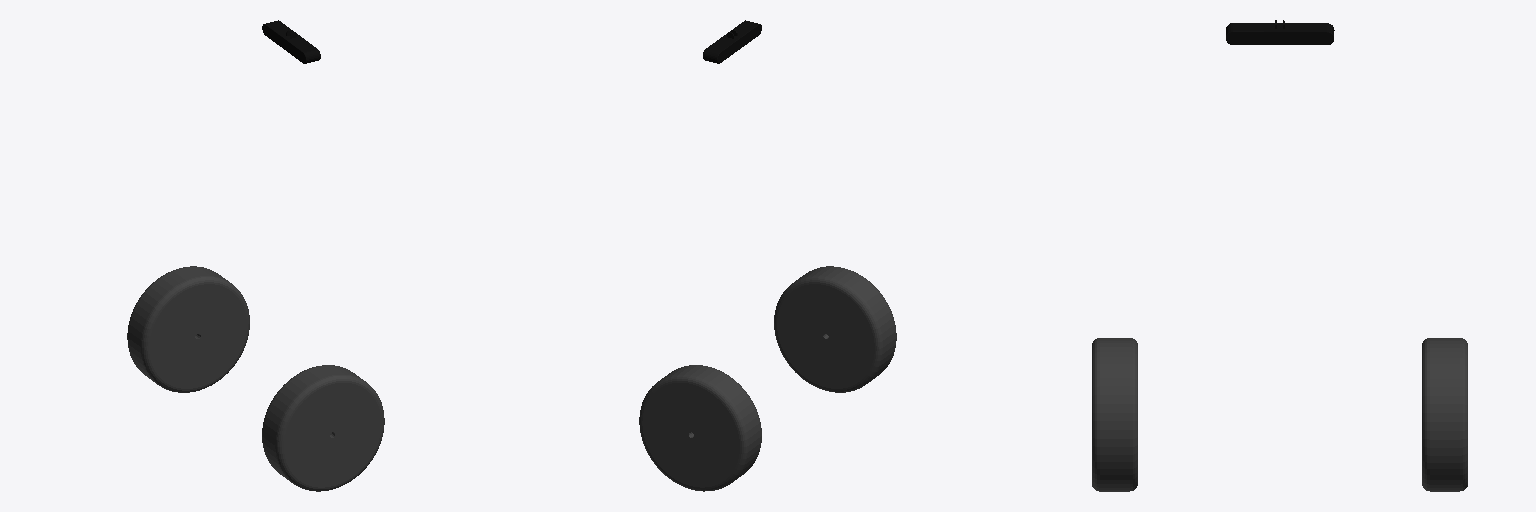
robot.urdf — rbe_500_model:
<robot
  name="rbe_500_model">
  <link
    name="base_link">
    <inertial>
      <origin
        xyz="0 0 0"
        rpy="0 0 0" />
      <mass
        value="0.475534497792671" />
      <inertia
        ixx="0.00292364483627102"
        ixy="9.22234923881454E-20"
        ixz="1.33222993581309E-19"
        iyy="0.00490966460932714"
        iyz="-2.11085723127762E-18"
        izz="0.00292364483627102" />
    </inertial>
    <visual>
      <origin
        xyz="0 0 0"
        rpy="0 0 0" />
      <geometry>
        <mesh
          filename="package://rbe_500_model/meshes/base_link.STL" />
      </geometry>
      <material
        name="">
        <color
          rgba="0.294117647058824 0.294117647058824 0.294117647058824 1" />
      </material>
    </visual>
    <collision>
      <origin
        xyz="0 0 0"
        rpy="0 0 0" />
      <geometry>
        <mesh
          filename="package://rbe_500_model/meshes/base_link.STL" />
      </geometry>
    </collision>
  </link>
  <link
    name="left wheel">
    <inertial>
      <origin
        xyz="0.0381 6.93889390390723E-18 -5.55111512312578E-17"
        rpy="0 0 0" />
      <mass
        value="0.47553449779267" />
      <inertia
        ixx="0.00490966460932713"
        ixy="-3.54087862241003E-19"
        ixz="-1.51683481439318E-19"
        iyy="0.00292364483627101"
        iyz="2.366776865394E-34"
        izz="0.00292364483627101" />
    </inertial>
    <visual>
      <origin
        xyz="0 0 0"
        rpy="0 0 0" />
      <geometry>
        <mesh
          filename="package://rbe_500_model/meshes/left wheel.STL" />
      </geometry>
      <material
        name="">
        <color
          rgba="0.294117647058824 0.294117647058824 0.294117647058824 1" />
      </material>
    </visual>
    <collision>
      <origin
        xyz="0 0 0"
        rpy="0 0 0" />
      <geometry>
        <mesh
          filename="package://rbe_500_model/meshes/left wheel.STL" />
      </geometry>
    </collision>
  </link>
  <joint
    name="LWG"
    type="fixed">
    <origin
      xyz="-0.131259548029399 -0.241937956784144 -0.00493639826942228"
      rpy="-1.5707963267949 -6.12303176911189E-17 -1.5707963267949" />
    <parent
      link="base_link" />
    <child
      link="left wheel" />
    <axis
      xyz="0 0 0" />
  </joint>
  <link
    name="Right Wheel">
    <inertial>
      <origin
        xyz="-0.508 -5.03937169771262E-16 5.55111512312578E-17"
        rpy="0 0 0" />
      <mass
        value="0.47553449779267" />
      <inertia
        ixx="0.00490966460932714"
        ixy="-2.23246185292269E-18"
        ixz="-9.22234923881454E-20"
        iyy="0.00292364483627102"
        iyz="-1.33222993581309E-19"
        izz="0.00292364483627102" />
    </inertial>
    <visual>
      <origin
        xyz="0 0 0"
        rpy="0 0 0" />
      <geometry>
        <mesh
          filename="package://rbe_500_model/meshes/Right Wheel.STL" />
      </geometry>
      <material
        name="">
        <color
          rgba="0.294117647058824 0.294117647058824 0.294117647058824 1" />
      </material>
    </visual>
    <collision>
      <origin
        xyz="0 0 0"
        rpy="0 0 0" />
      <geometry>
        <mesh
          filename="package://rbe_500_model/meshes/Right Wheel.STL" />
      </geometry>
    </collision>
  </link>
  <joint
    name="Right Wheel"
    type="fixed">
    <origin
      xyz="-0.131259548029399 -0.241937956784144 -0.00493639826942228"
      rpy="-1.5707963267949 -6.12303176911189E-17 -1.5707963267949" />
    <parent
      link="base_link" />
    <child
      link="Right Wheel" />
    <axis
      xyz="0 0 0" />
  </joint>
  <link
    name="Primesense_C">
    <inertial>
      <origin
        xyz="-0.0480847778056963 -0.00688257876730907 0.72885206673097"
        rpy="0 0 0" />
      <mass
        value="0.153732149014193" />
      <inertia
        ixx="0.000397122289038545"
        ixy="1.93009391494109E-06"
        ixz="3.29971582318569E-21"
        iyy="2.36445937636936E-05"
        iyz="2.27766027835362E-19"
        izz="0.000404632790594423" />
    </inertial>
    <visual>
      <origin
        xyz="0 0 0"
        rpy="0 0 0" />
      <geometry>
        <mesh
          filename="package://rbe_500_model/meshes/Primesense_C.STL" />
      </geometry>
      <material
        name="">
        <color
          rgba="0.0980392156862745 0.0980392156862745 0.0980392156862745 1" />
      </material>
    </visual>
    <collision>
      <origin
        xyz="0 0 0"
        rpy="0 0 0" />
      <geometry>
        <mesh
          filename="package://rbe_500_model/meshes/Primesense_C.STL" />
      </geometry>
    </collision>
  </link>
  <joint
    name="primesense_depth_frame_c"
    type="fixed">
    <origin
      xyz="0 0 0"
      rpy="0 0 0" />
    <parent
      link="base_link" />
    <child
      link="Primesense_C" />
    <axis
      xyz="0 0 0" />
  </joint>
</robot>

--- Render facts (derived) ---
3 views of the same robot in one strip: view 1: azimuth 30°, elevation 25°; view 2: azimuth 150°, elevation 25°; view 3: azimuth 270°, elevation 25° (orthographic).
Model rbe_500_model with 4 links and 3 joints (3 fixed), rooted at base_link, posed every joint at zero.
Visible links, largest first — view 1: left wheel, base_link, Primesense_C, Right Wheel; view 2: left wheel, base_link, Right Wheel, Primesense_C; view 3: left wheel, base_link, Primesense_C, Right Wheel.
Boxes of the visible links, x1,y1,x2,y2 form: left wheel: [262, 365, 384, 491]; base_link: [127, 266, 249, 392]; Primesense_C: [262, 20, 320, 63]; Right Wheel: [127, 268, 246, 389]; left wheel: [774, 266, 896, 392]; base_link: [639, 365, 761, 491]; Right Wheel: [641, 365, 761, 487]; Primesense_C: [703, 20, 761, 63]; left wheel: [1092, 338, 1137, 491]; base_link: [1422, 338, 1467, 491]; Primesense_C: [1226, 20, 1334, 44]; Right Wheel: [1422, 341, 1467, 484].
Bounding box of the posed robot: 0.254 × 0.6223 × 0.8846 m (x, y, z).
4 mesh visuals loaded from 4 distinct referenced files (4 binary STL).